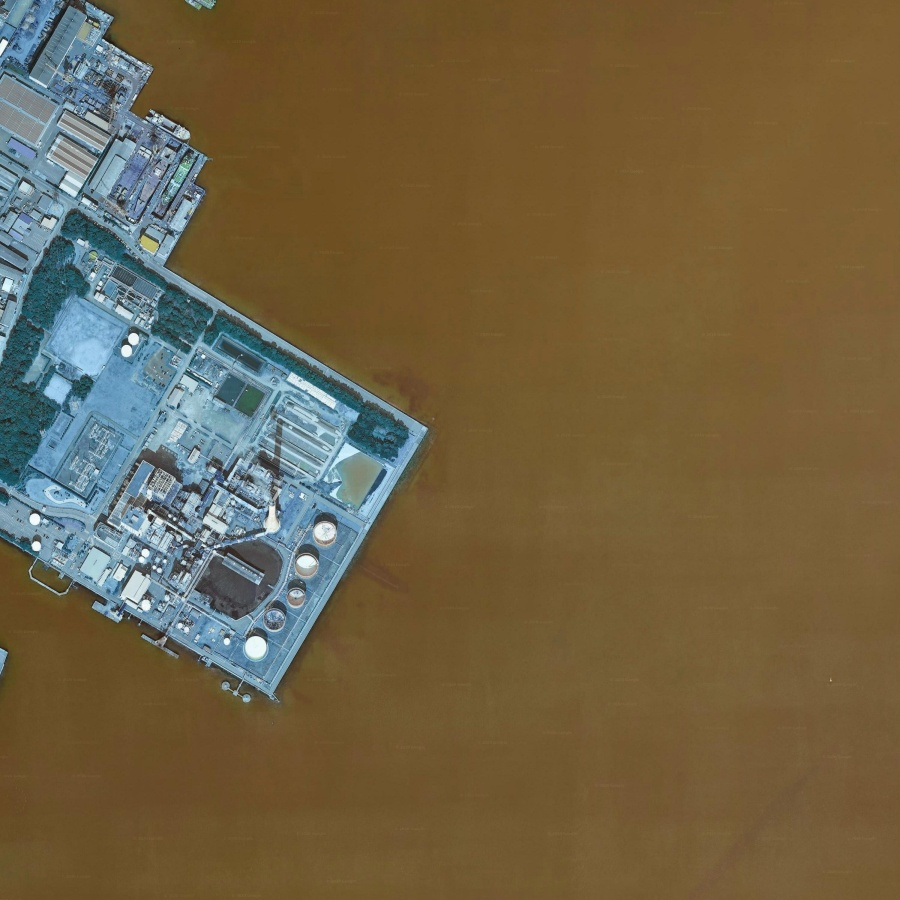PowerPlant: (23, 374, 392, 693)
